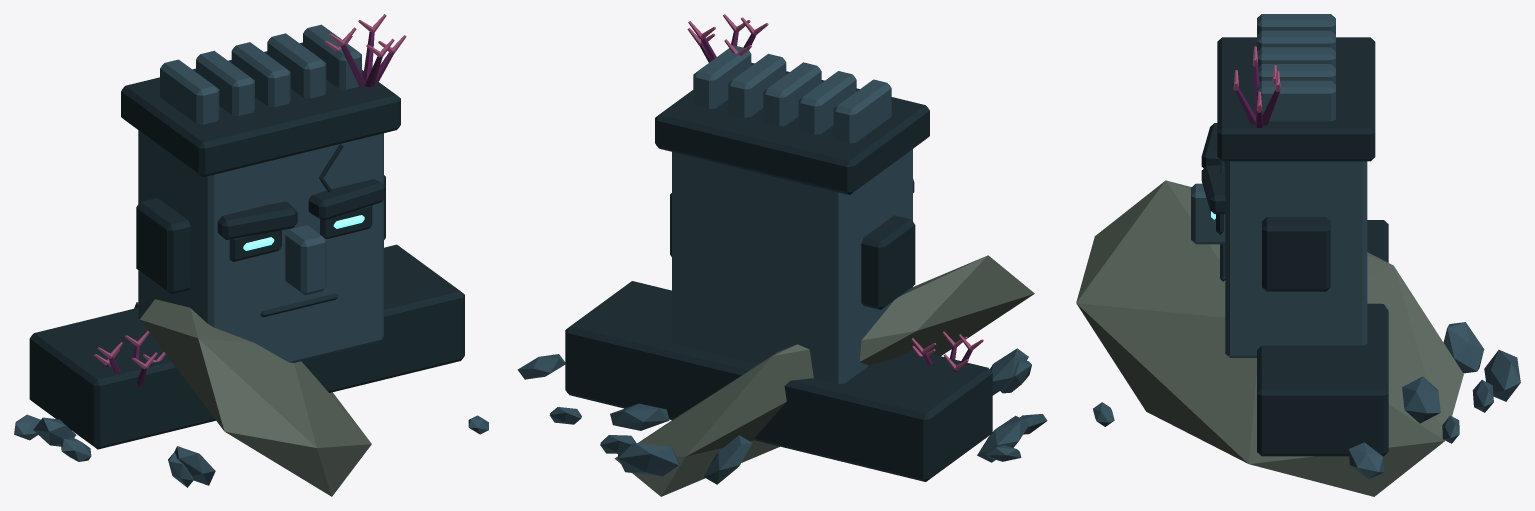
File: 03_buried_colossus.glb
3 renders of one model, left to right at view 1: azimuth 30°, elevation 25°; view 2: azimuth 150°, elevation 25°; view 3: azimuth 270°, elevation 25°, orthographic. The views are drawn at different scales.
Visible parts, largest first — view 1: AncientHead, BuriedShoulder, SandDrift, CrownBand, Ear, CrownTooth, Nose, CrownTooth.003, CrownTooth.002, CrownTooth.001, Brow, Brow.001 (+7 smaller); view 2: AncientHead, BuriedShoulder, SandDrift, CrownBand, Ear, CrownTooth, CrownTooth.003, CrownTooth.001, CrownTooth.002, CrownTooth.004, BrokenStone.036, BrokenStone.030 (+4 smaller); view 3: SandDrift, AncientHead, BuriedShoulder, CrownBand, Ear.001, CrownTooth.004, BrokenStone.030, CrownTooth.001, Nose, CrownTooth, CrownTooth.002, BrokenStone.036 (+6 smaller).
Boxes of the visible parts, x1,y1,x2,y2 form: AncientHead: (138,130,383,362); BuriedShoulder: (29,244,464,449); SandDrift: (140,299,371,496); CrownBand: (121,42,400,177); Ear: (136,198,190,294); CrownTooth: (160,59,219,124); Nose: (285,225,326,295); CrownTooth.003: (267,33,326,98); CrownTooth.002: (231,42,290,107); CrownTooth.001: (196,50,254,115); Brow: (217,201,297,239); Brow.001: (308,179,384,220); AncientHead: (672,149,912,383); BuriedShoulder: (565,281,992,481); SandDrift: (614,255,1034,496); CrownBand: (655,62,929,194); Ear: (861,215,915,309); CrownTooth: (833,79,891,143); CrownTooth.003: (728,53,786,117); CrownTooth.001: (798,71,856,134); CrownTooth.002: (763,62,821,126); CrownTooth.004: (693,45,751,109); BrokenStone.036: (618,442,678,476); BrokenStone.030: (704,435,752,484); SandDrift: (1076,180,1463,496); AncientHead: (1225,161,1367,357); BuriedShoulder: (1257,220,1388,456); CrownBand: (1217,37,1375,161); Ear.001: (1262,217,1330,291); CrownTooth.004: (1257,80,1335,121); BrokenStone.030: (1443,322,1484,373); CrownTooth.001: (1257,30,1335,51); Nose: (1191,183,1225,244); CrownTooth: (1257,14,1335,34); CrownTooth.002: (1257,47,1335,67); BrokenStone.036: (1484,350,1520,401).
Bounding box in the file's own units: 10.02 × 9 × 8.45.
Materials: 6 (6 with a texture image).
